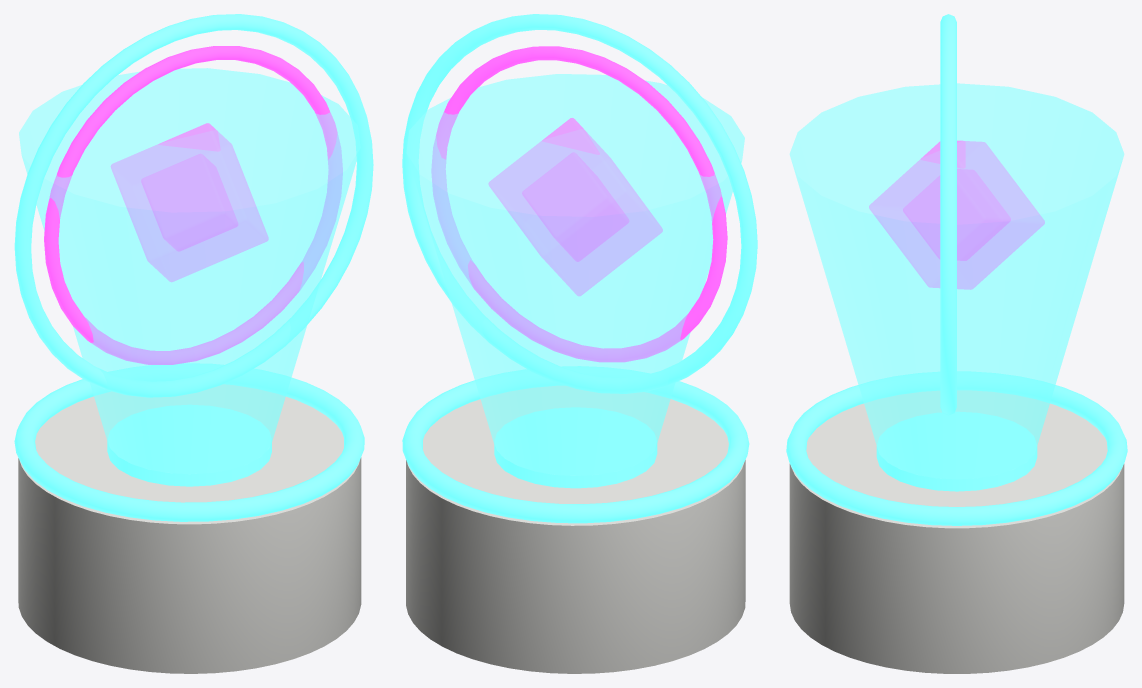
Rendered from brand-hologram.glb.
The picture shows the model from 3 angles, left to right: view 1: azimuth 30°, elevation 25°; view 2: azimuth 150°, elevation 25°; view 3: azimuth 270°, elevation 25°; orthographic projection. The views are drawn at different scales.
Visible parts, largest first — view 1: brand-hologram-holo, brand-hologram-solid, brand-hologram-glow, ring-a-1-rotor-glow, cube-3-rotor-holo, ring-b-2-rotor-glow, cube-3-rotor-glow; view 2: brand-hologram-holo, brand-hologram-solid, brand-hologram-glow, ring-a-1-rotor-glow, cube-3-rotor-holo, ring-b-2-rotor-glow, cube-3-rotor-glow; view 3: brand-hologram-holo, brand-hologram-solid, brand-hologram-glow, cube-3-rotor-holo, ring-a-1-rotor-glow, cube-3-rotor-glow.
Part boxes in pixels (x1,y1,x2,y2): brand-hologram-holo: (19,68,360,473); brand-hologram-solid: (18,384,361,673); brand-hologram-glow: (14,363,364,521); ring-a-1-rotor-glow: (14,14,373,397); cube-3-rotor-holo: (111,123,268,281); ring-b-2-rotor-glow: (44,46,342,364); cube-3-rotor-glow: (141,154,237,251); brand-hologram-holo: (406,74,744,475); brand-hologram-solid: (406,386,745,673); brand-hologram-glow: (402,366,749,523); ring-a-1-rotor-glow: (402,14,757,393); cube-3-rotor-holo: (488,118,662,295); ring-b-2-rotor-glow: (431,46,727,362); cube-3-rotor-glow: (522,152,628,261); brand-hologram-holo: (789,83,1124,479); brand-hologram-solid: (789,390,1124,673); brand-hologram-glow: (786,371,1127,525); cube-3-rotor-holo: (869,140,1044,289); ring-a-1-rotor-glow: (940,14,956,415); cube-3-rotor-glow: (903,169,1010,260).
Size of the model in its own units: 0.48 by 0.752 by 0.4077.
